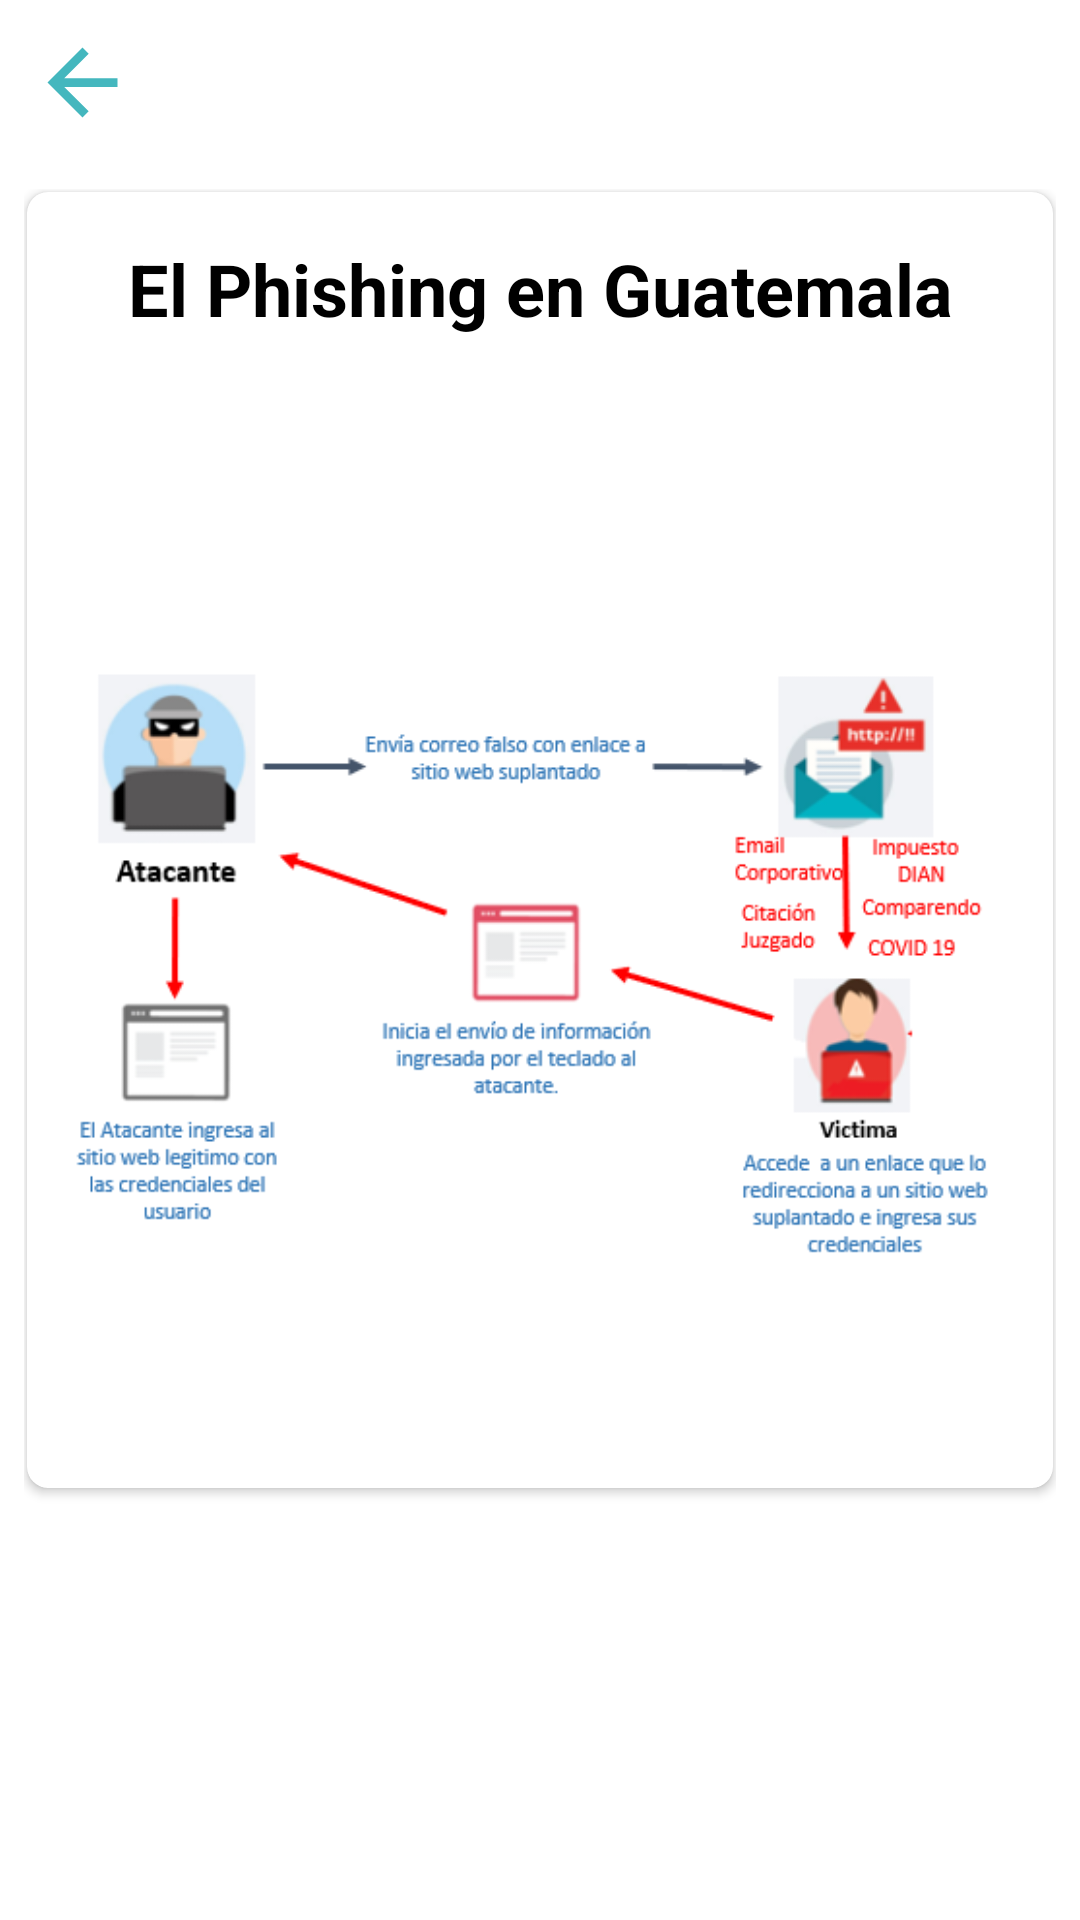

Icon click points for this 1080×1920 phone screenshot, format (x=x, y=y):
back arrow: (x=82, y=82)
